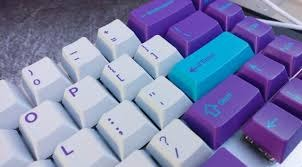keyboard: (1, 0, 302, 167)
